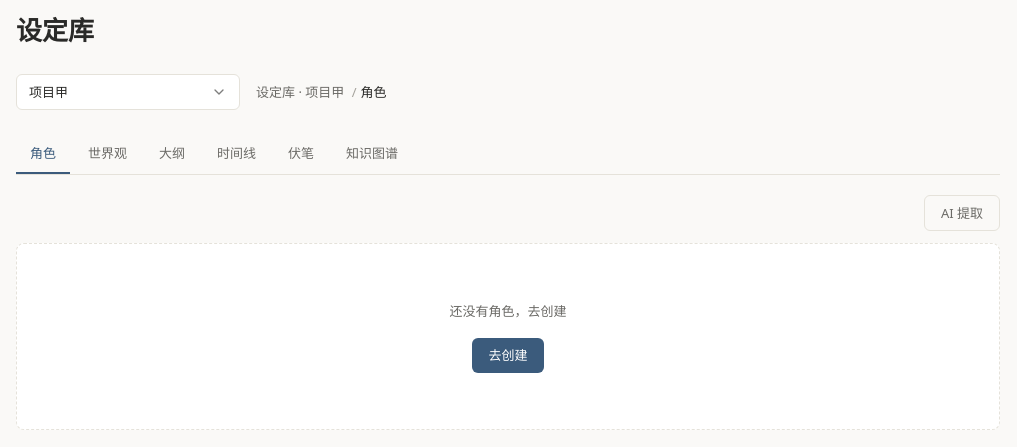
设定库页 — 世界观根条目后仍可创建子分类（#588） › #568 有根世界观条目 + 未选分类（根态）：「去创建」隐藏（#567/#588 行为反转）
Click the tab "世界观". click: (108, 154)
box: [74,134,141,174]
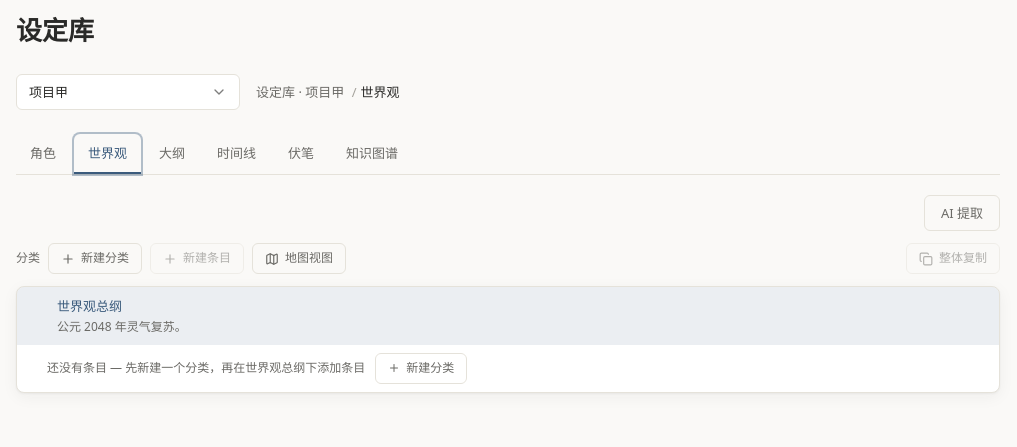
Now the element with test id "library-list" is shown, box [16,286,1000,393]
Now the button with test id "world-cat-add" is shown, box [48,243,142,274]
Now the button with test id "map-view-entry" is shown, box [252,243,346,274]
